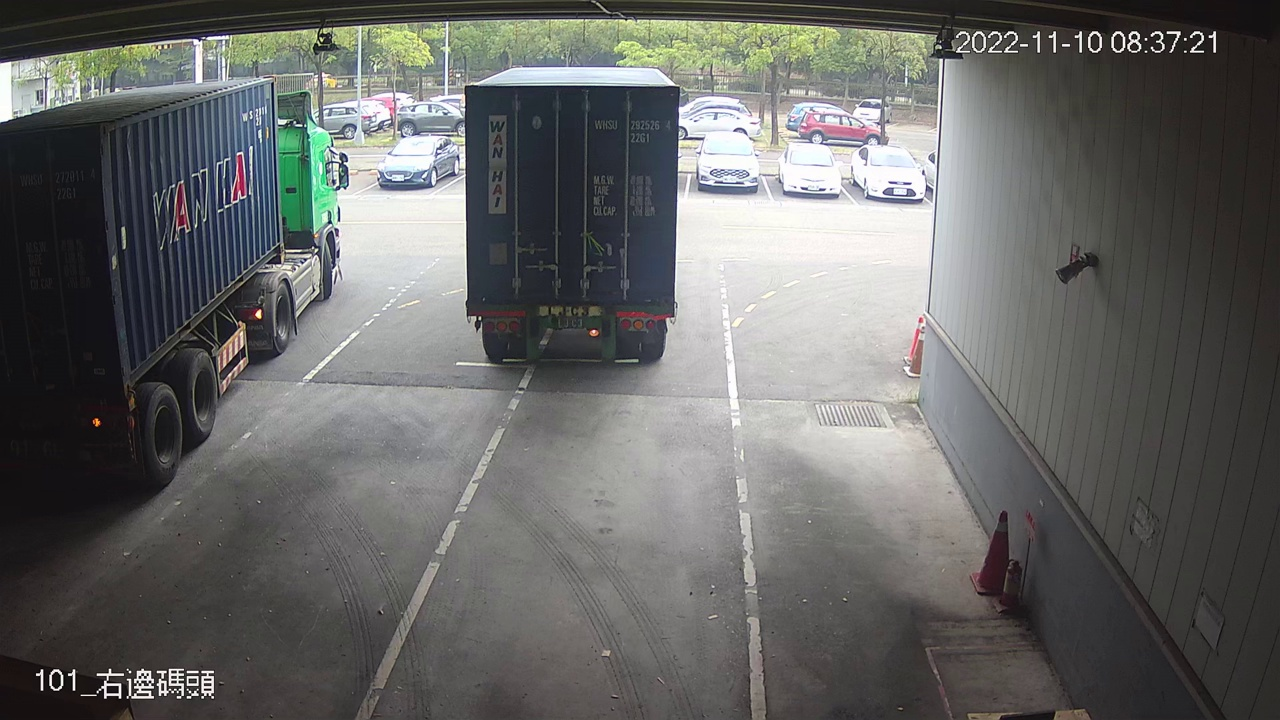container: (590, 116, 674, 148)
